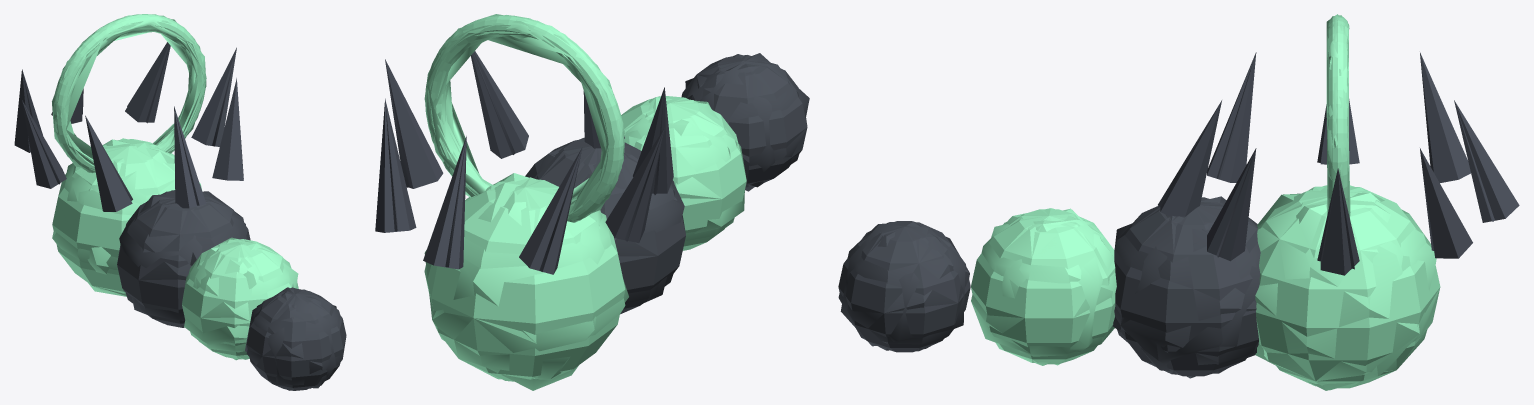
The model's file is SM_Boss_Nerobahn.fbx.
The picture shows the model from 3 angles, left to right: view 1: azimuth 30°, elevation 25°; view 2: azimuth 150°, elevation 25°; view 3: azimuth 270°, elevation 25°; orthographic projection. The views are drawn at different scales.
Visible parts, largest first — view 1: LOD0_SM_Boss_Nerobahn, LOD1_SM_Boss_Nerobahn, LOD2_SM_Boss_Nerobahn, LOD3_SM_Boss_Nerobahn; view 2: LOD0_SM_Boss_Nerobahn, LOD2_SM_Boss_Nerobahn, LOD1_SM_Boss_Nerobahn, LOD3_SM_Boss_Nerobahn; view 3: LOD0_SM_Boss_Nerobahn, LOD2_SM_Boss_Nerobahn, LOD1_SM_Boss_Nerobahn, LOD3_SM_Boss_Nerobahn.
Boxes of the visible parts, box(x1,y1,x2,y2) form: LOD0_SM_Boss_Nerobahn: box(14, 14, 346, 390); LOD1_SM_Boss_Nerobahn: box(52, 14, 342, 390); LOD2_SM_Boss_Nerobahn: box(22, 15, 346, 390); LOD3_SM_Boss_Nerobahn: box(52, 19, 336, 388); LOD0_SM_Boss_Nerobahn: box(375, 15, 807, 381); LOD2_SM_Boss_Nerobahn: box(385, 14, 806, 379); LOD1_SM_Boss_Nerobahn: box(424, 15, 807, 379); LOD3_SM_Boss_Nerobahn: box(424, 24, 809, 390); LOD0_SM_Boss_Nerobahn: box(838, 17, 1519, 388); LOD2_SM_Boss_Nerobahn: box(838, 14, 1494, 390); LOD1_SM_Boss_Nerobahn: box(838, 15, 1423, 387); LOD3_SM_Boss_Nerobahn: box(840, 15, 1436, 390).
Size of the model in its own units: 3.19 by 3.86 by 6.74.
